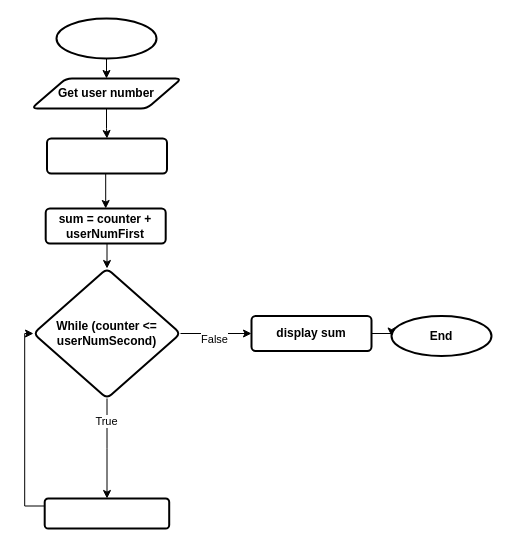
Image size: 510x546. Some labels were removed from this diagram. Each missing label, with the centre of its shape:
"counter = 0" belongs at pixel 107 155.
"counter = counter + 1" belongs at pixel 106 513.
"Start" belongs at pixel 106 38.
